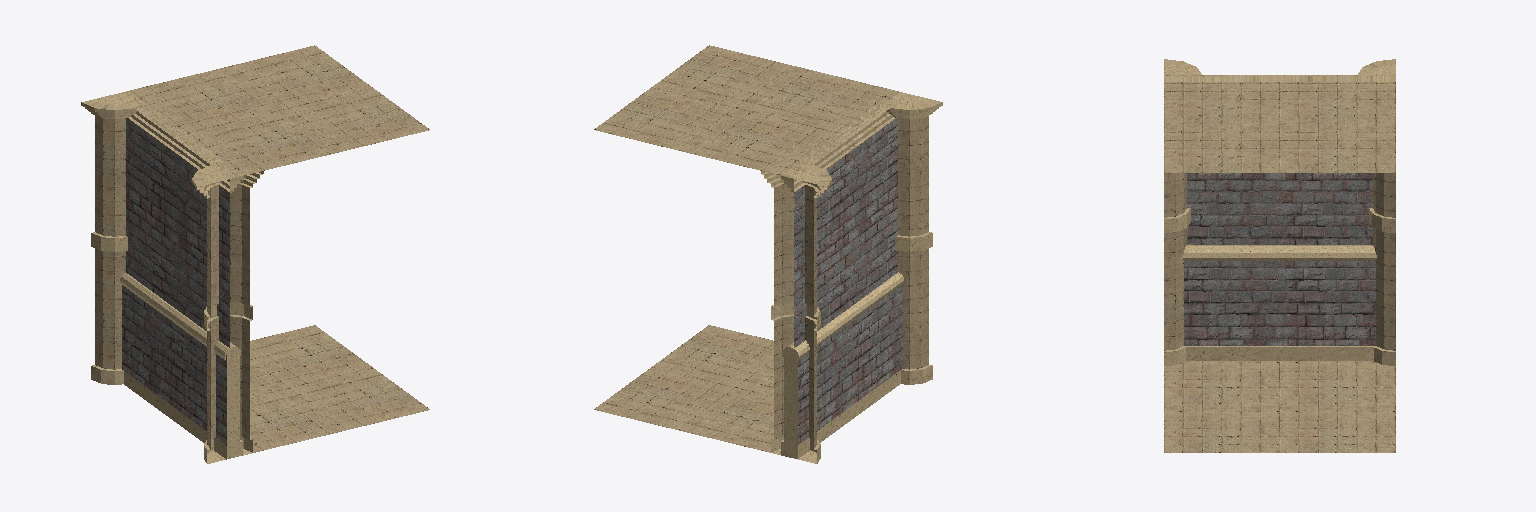
The picture shows the model from 3 angles: view 1: azimuth 30°, elevation 25°; view 2: azimuth 150°, elevation 25°; view 3: azimuth 270°, elevation 25°; orthographic projection.
Parts seen in each view (by area): view 1: Object04, Object01, Object02, Object03, Cylinder01, Cylinder05, Box03, Box02, Object05, Object06, Cylinder03; view 2: Object04, Object01, Object02, Object03, Cylinder05, Cylinder01, Box03, Box02, Object06, Object05, Cylinder03; view 3: Object04, Object02, Object03, Object01, Cylinder01, Cylinder05, Cylinder03, Box03, Box02, Object05, Object06.
Part boxes in pixels (left/top/right/bottom): Object04: left=118, top=45, right=429, bottom=178; Object01: left=126, top=118, right=229, bottom=347; Object02: left=250, top=325, right=429, bottom=452; Object03: left=122, top=285, right=239, bottom=445; Cylinder01: left=95, top=116, right=125, bottom=369; Cylinder05: left=207, top=184, right=249, bottom=449; Box03: left=124, top=352, right=242, bottom=459; Box02: left=115, top=91, right=243, bottom=192; Object05: left=81, top=94, right=136, bottom=384; Object06: left=192, top=165, right=263, bottom=463; Cylinder03: left=120, top=273, right=240, bottom=359; Object04: left=594, top=45, right=903, bottom=177; Object01: left=794, top=118, right=897, bottom=347; Object02: left=594, top=325, right=773, bottom=452; Object03: left=798, top=284, right=902, bottom=444; Cylinder05: left=898, top=116, right=928, bottom=369; Cylinder01: left=774, top=184, right=816, bottom=447; Box03: left=781, top=358, right=900, bottom=458; Box02: left=781, top=92, right=908, bottom=192; Object06: left=887, top=94, right=942, bottom=384; Object05: left=761, top=165, right=831, bottom=463; Cylinder03: left=783, top=272, right=903, bottom=362; Object04: left=1164, top=75, right=1395, bottom=172; Object02: left=1164, top=361, right=1395, bottom=452; Object03: left=1184, top=261, right=1375, bottom=345; Object01: left=1187, top=173, right=1372, bottom=244; Cylinder01: left=1373, top=173, right=1395, bottom=350; Cylinder05: left=1164, top=173, right=1186, bottom=350; Cylinder03: left=1182, top=245, right=1376, bottom=260; Box03: left=1182, top=346, right=1376, bottom=360; Box02: left=1164, top=75, right=1395, bottom=81; Object05: left=1358, top=59, right=1395, bottom=365; Object06: left=1164, top=59, right=1201, bottom=365.
Bounding box in the file's own units: 3.5 × 4 × 3.01.
3 materials, 3 textured.